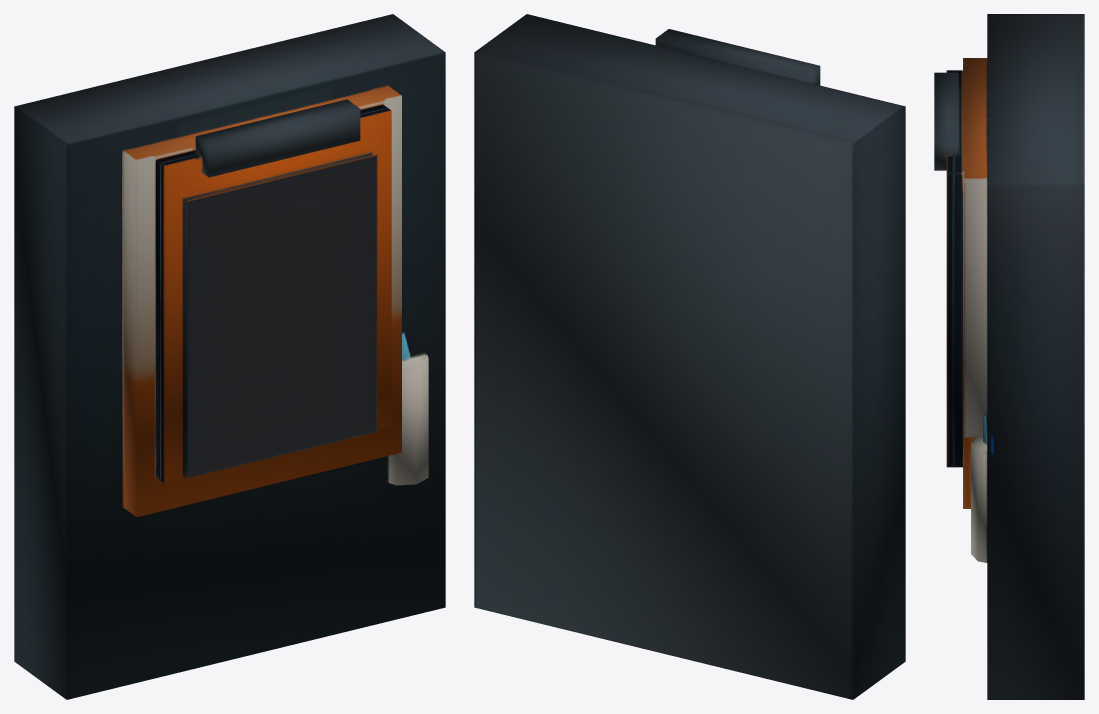
File: yard-manifest-body-tripo-original.glb
The picture shows the model from 3 angles, left to right: view 1: azimuth 30°, elevation 25°; view 2: azimuth 150°, elevation 25°; view 3: azimuth 270°, elevation 25°; orthographic projection. The views are drawn at different scales.
Visible parts, largest first — view 1: Authored_surface_030; view 2: Authored_surface_030; view 3: Authored_surface_030.
Boxes of the visible parts, bbox=[...] form: Authored_surface_030: bbox=[14, 14, 445, 699]; Authored_surface_030: bbox=[474, 14, 905, 699]; Authored_surface_030: bbox=[934, 14, 1084, 699].
Size of the model in its own units: 0.7143 by 1 by 0.2643.
1 material, 1 textured.
